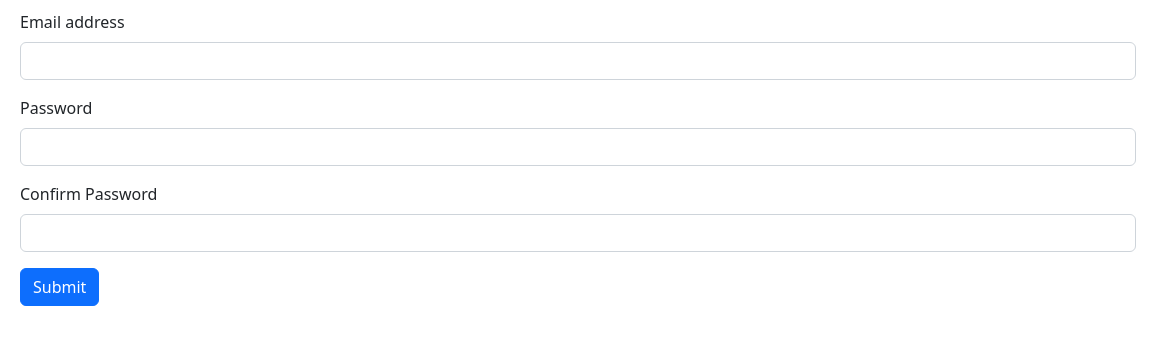
Scenario: error handling tests › should show invalid password error message
Expected: the text "Password should contain 5 or more characters." is not shown
Type "test@email.com" into the field labelled "Email address" at coordinates (578, 61), box [20, 42, 1136, 80]
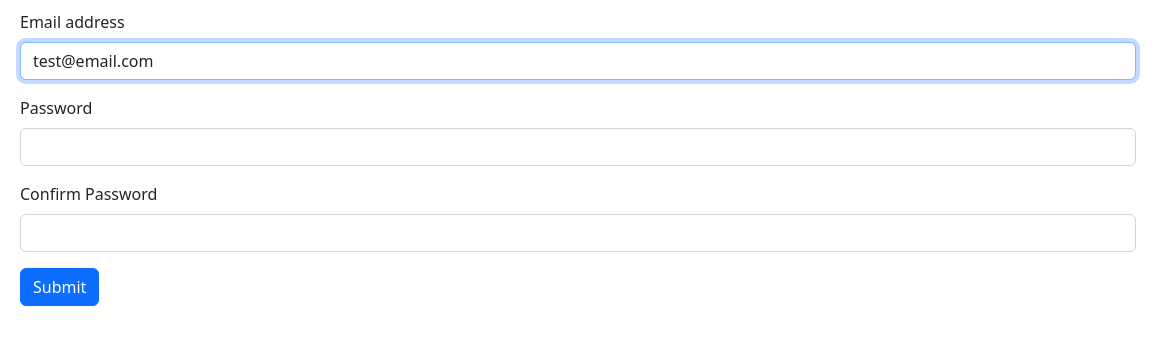
Type "abc" into the password field labelled "Password" at coordinates (578, 147), box [20, 128, 1136, 166]
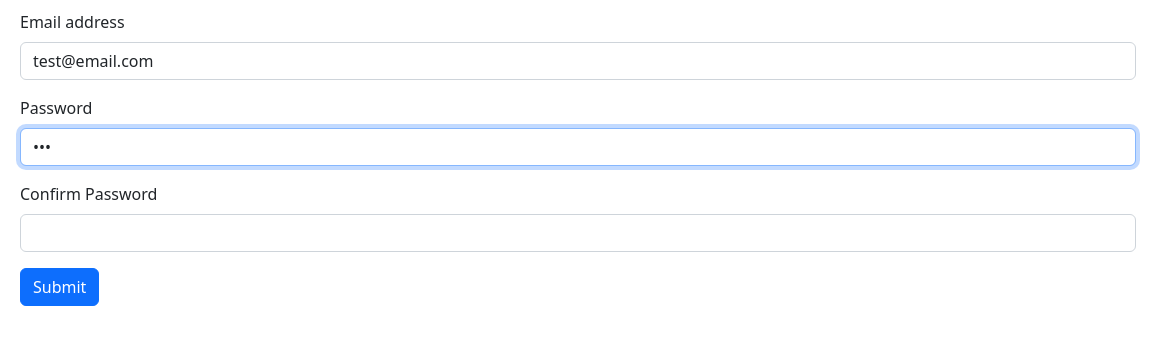
Click the button at coordinates (60, 287), box [20, 268, 99, 306]
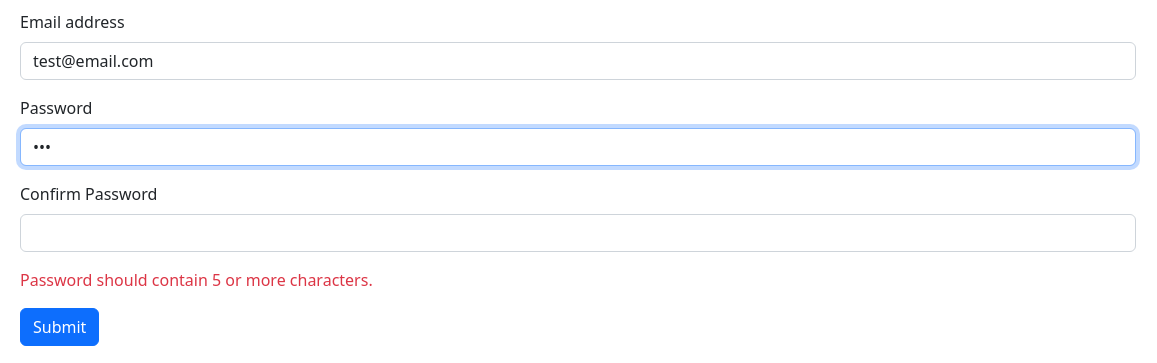
Expected: the text "Password should contain 5 or more characters." is shown, [20, 269, 373, 291]
